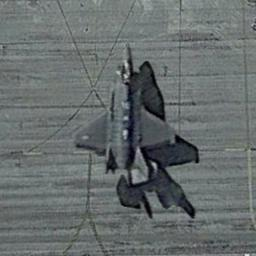Airplane: (71, 42, 181, 191)
